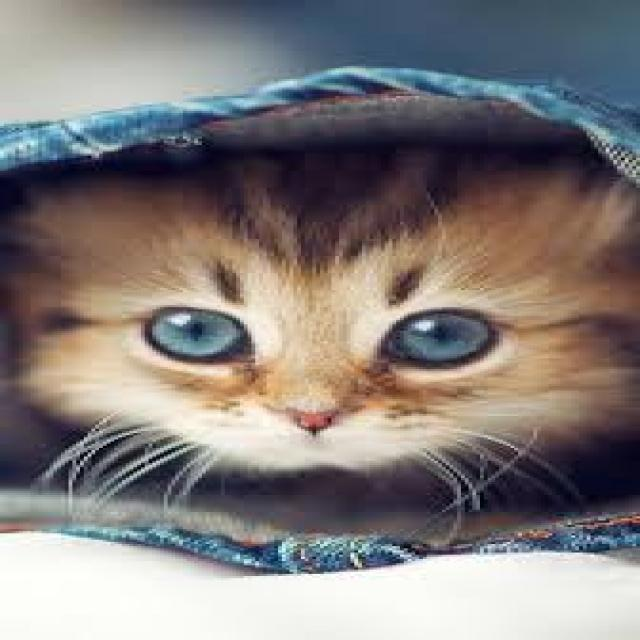Cat: (1, 146, 640, 508)
